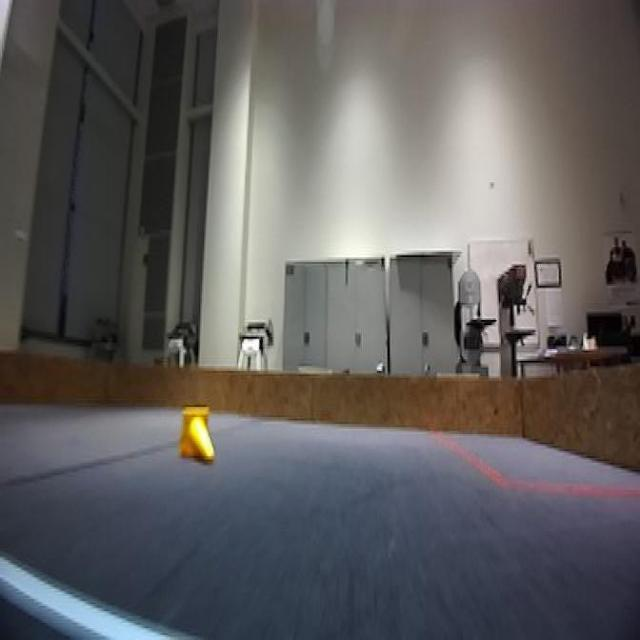frc_cone: (175, 402, 215, 466)
